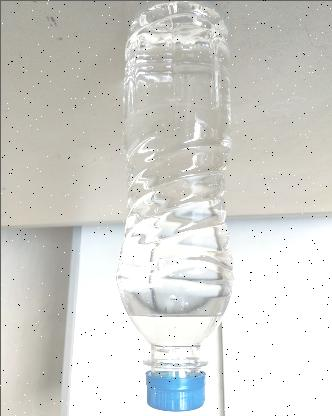Plastic Bottle: (114, 1, 235, 414)
